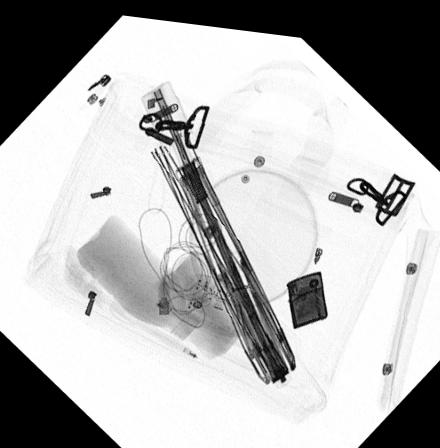Lighter: (285, 260, 327, 320)
